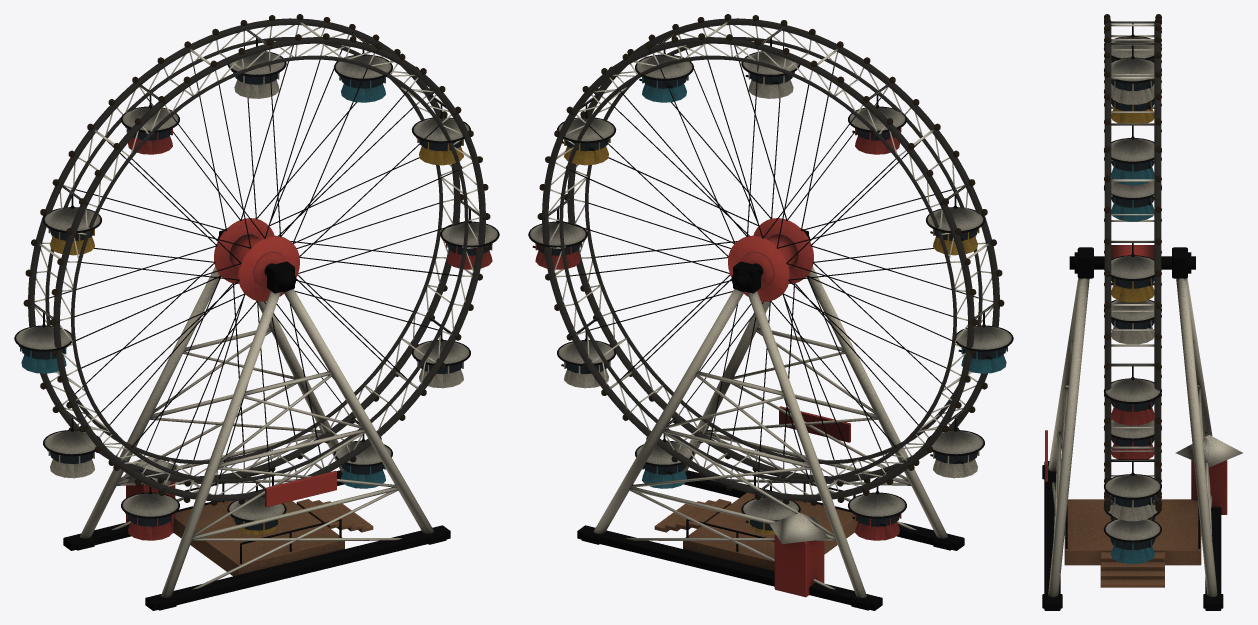
File: wheel.glb
3 renders of one model, left to right at view 1: azimuth 30°, elevation 25°; view 2: azimuth 150°, elevation 25°; view 3: azimuth 270°, elevation 25°, orthographic.
Parts seen in each view (by area): view 1: Wheel_Rotor, Wheel_Frame, Cab8, Cab7, Cab2, Cab6, Cab1, Cab3, Cab0, Cab5, Cab4, Cab11 (+2 smaller); view 2: Wheel_Rotor, Wheel_Frame, Cab8, Cab7, Cab2, Cab6, Cab1, Cab3, Cab5, Cab0, Cab4, Cab11 (+2 smaller); view 3: Wheel_Frame, Wheel_Rotor, Cab11, Cab0, Cab1, Cab2, Cab10, Cab3, Cab7, Cab6, Cab8, Cab4 (+1 smaller).
Boxes of the visible parts, x1,y1,x2,y2 form: Wheel_Rotor: [23, 14, 490, 505]; Wheel_Frame: [63, 229, 450, 610]; Cab8: [121, 469, 179, 540]; Cab7: [43, 407, 101, 478]; Cab2: [334, 31, 392, 102]; Cab6: [14, 303, 71, 373]; Cab1: [411, 94, 470, 165]; Cab3: [227, 27, 286, 98]; Cab0: [440, 199, 499, 269]; Cab5: [43, 184, 101, 255]; Cab4: [121, 83, 179, 154]; Cab11: [412, 317, 470, 388]; Wheel_Rotor: [537, 14, 1004, 505]; Wheel_Frame: [577, 229, 964, 610]; Cab8: [848, 469, 906, 540]; Cab7: [926, 407, 984, 478]; Cab2: [635, 31, 693, 102]; Cab6: [956, 303, 1013, 373]; Cab1: [557, 94, 616, 165]; Cab3: [741, 27, 800, 98]; Cab5: [926, 184, 984, 255]; Cab0: [528, 199, 587, 269]; Cab4: [848, 83, 906, 154]; Cab11: [557, 317, 615, 388]; Wheel_Frame: [1042, 247, 1242, 610]; Wheel_Rotor: [1104, 14, 1161, 511]; Cab11: [1104, 459, 1161, 521]; Cab0: [1104, 363, 1161, 425]; Cab1: [1104, 241, 1161, 302]; Cab2: [1104, 123, 1161, 184]; Cab10: [1103, 502, 1161, 563]; Cab3: [1104, 43, 1161, 104]; Cab7: [1104, 282, 1161, 344]; Cab6: [1104, 178, 1161, 221]; Cab8: [1103, 419, 1161, 459]; Cab4: [1104, 21, 1161, 61].
Bounding box in the file's own units: 13.45 × 13.85 × 5.
6 materials, 6 textured.
